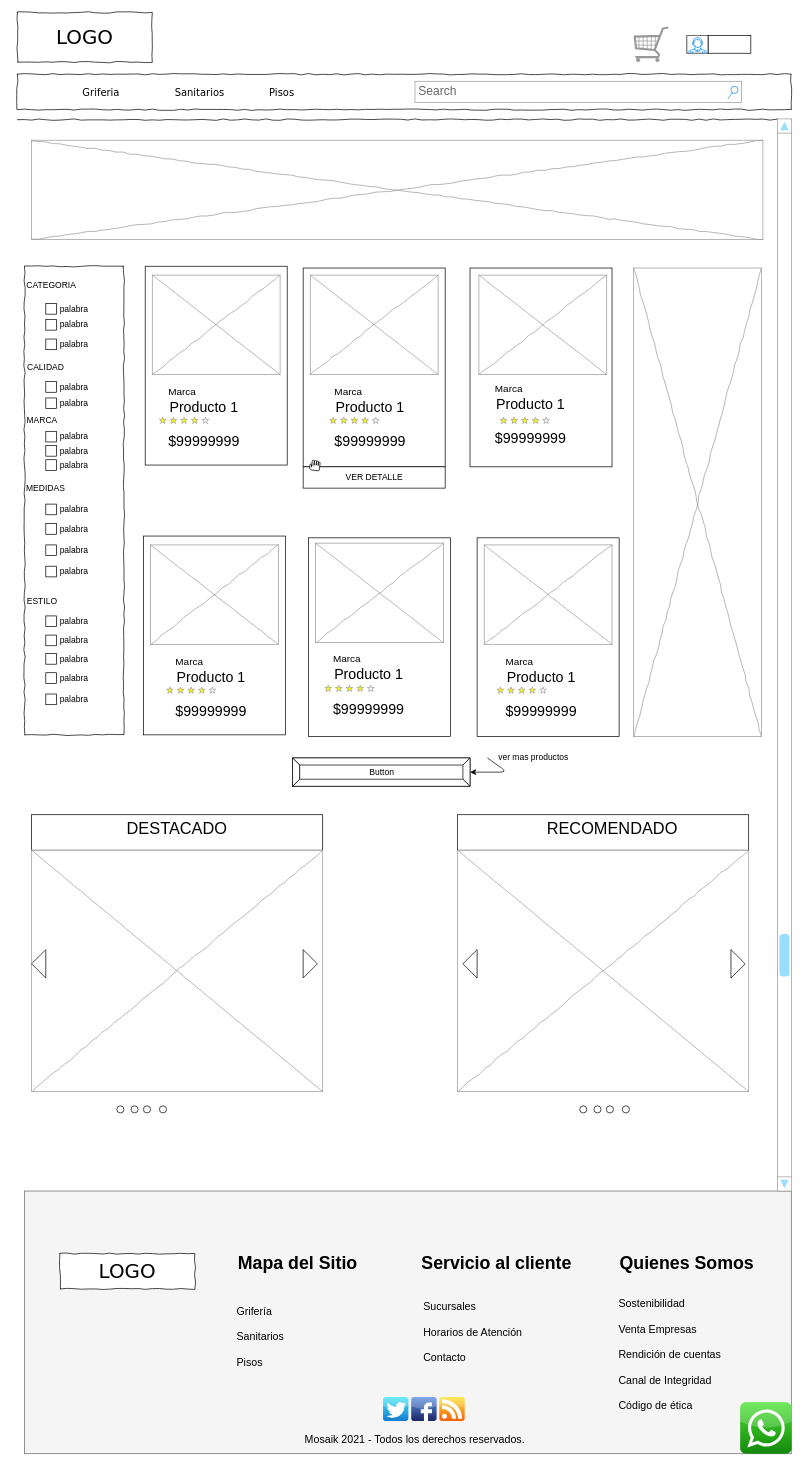
Image size: 804x1466. Some labels were removed from this diagram. The shapes that lost their labels are listed below. From the top down, each one's centre as x and y in pixels, then its label:
At point (729, 44): "user name".
At point (397, 190): "BANNER PUBLICIDAD PROPIA".
At point (697, 502): "BANNER PUBLICIDAD PROVEEDOR".
